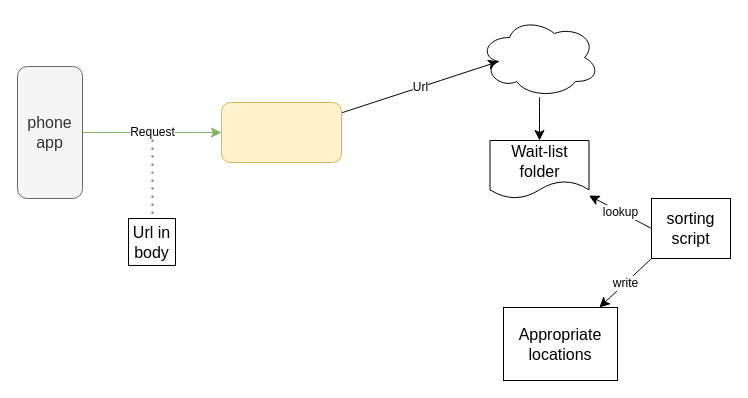
The diagram is 748 pixels wide and 398 high, and some of its shapes have lost their labels. The shapes that lost their labels are listed below. From the top down, each one's centre as x and y in pixels, then its label:
the point at 539,57: Instalation library
the point at 281,132: Web-app/Local machine
